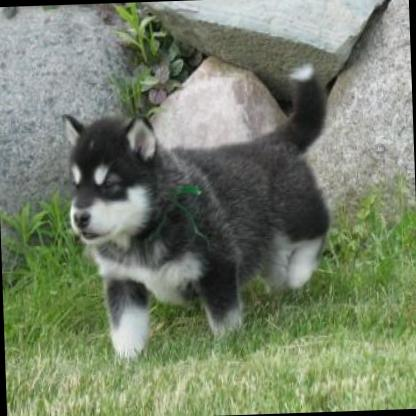malamute: (59, 64, 334, 357)
